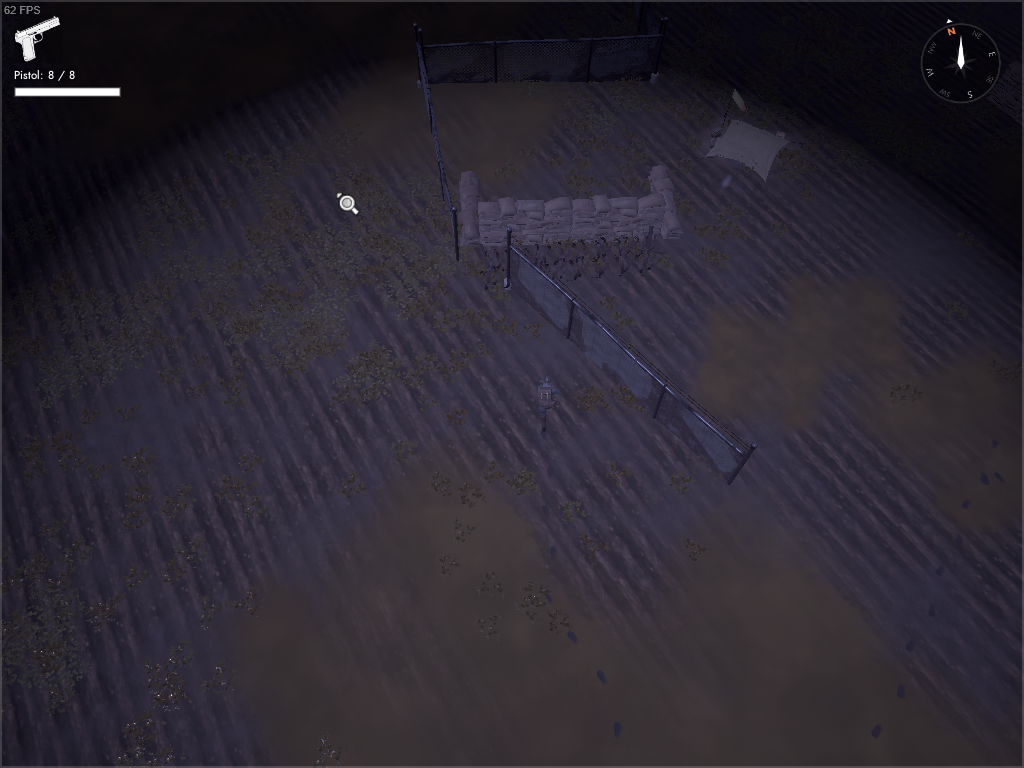fence: (501, 225, 758, 489), (412, 13, 669, 88), (412, 26, 468, 263)
foxhole: (685, 83, 812, 192)
player: (531, 373, 562, 435)
sandbag: (476, 189, 667, 251), (646, 162, 686, 244), (455, 166, 484, 249)
wire: (475, 230, 655, 296)
